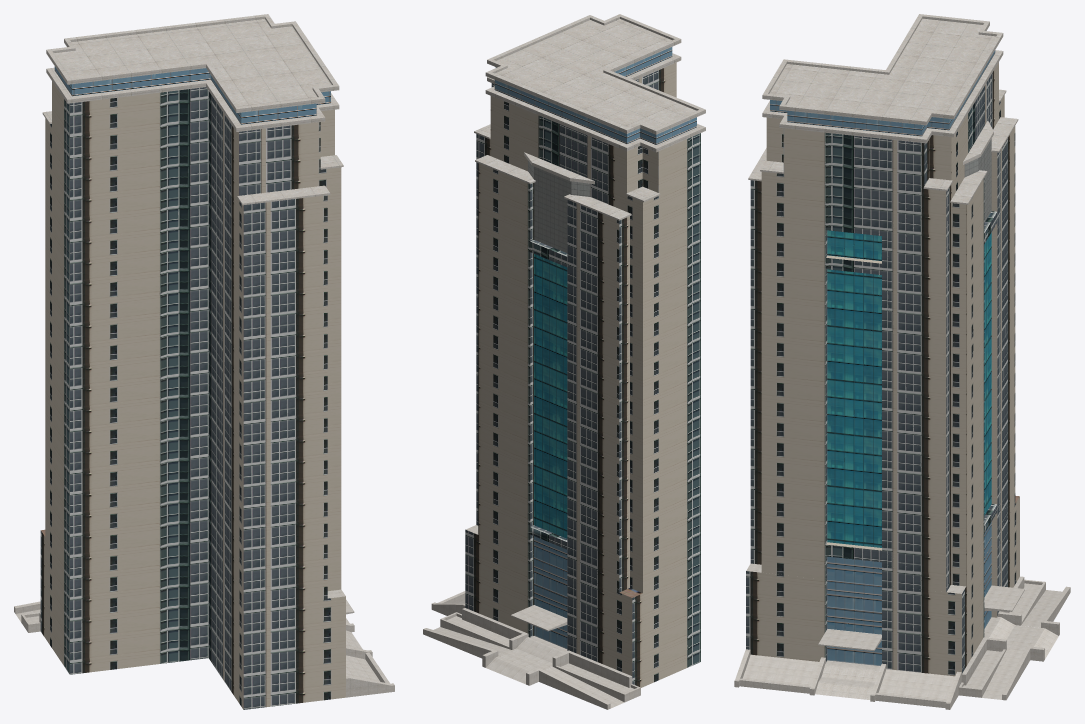
The picture shows the model from 3 angles, left to right: view 1: azimuth 30°, elevation 25°; view 2: azimuth 150°, elevation 25°; view 3: azimuth 270°, elevation 25°; orthographic projection. The views are drawn at different scales.
Parts seen in each view (by area): view 1: JZ_JX_12; view 2: JZ_JX_12; view 3: JZ_JX_12.
Boxes of the visible parts, bbox=[...] form: JZ_JX_12: bbox=[14, 14, 394, 709]; JZ_JX_12: bbox=[423, 14, 705, 709]; JZ_JX_12: bbox=[734, 14, 1070, 709].
Size of the model in its own units: 4755 by 9682 by 5211.
Materials: 6 (6 with a texture image).
